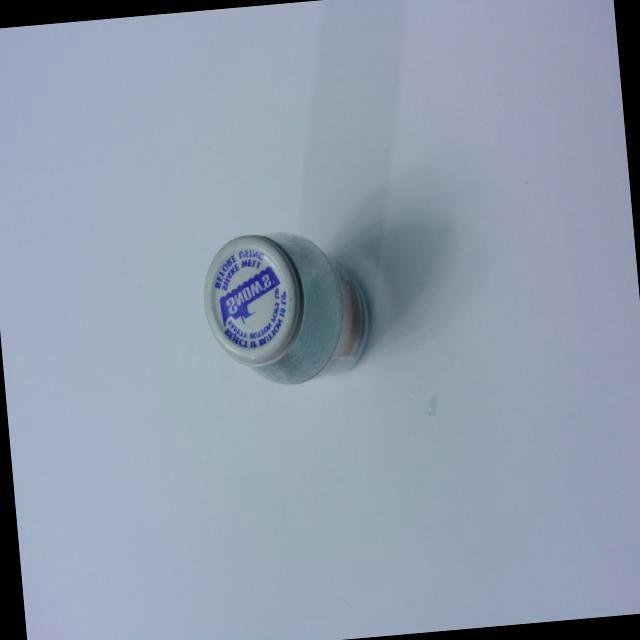glass: (185, 211, 401, 422)
